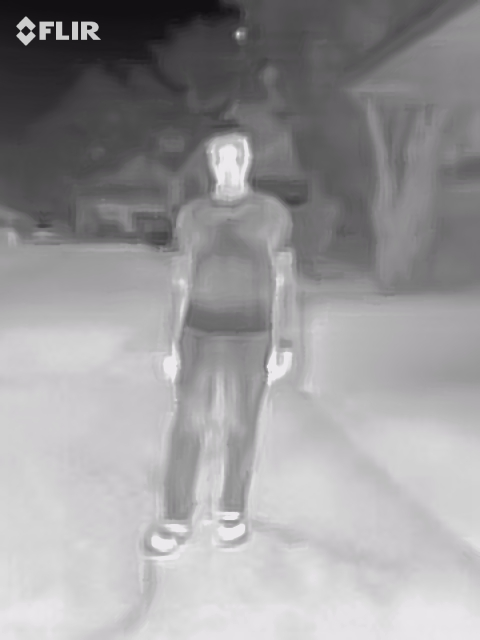head: (203, 129, 254, 190)
